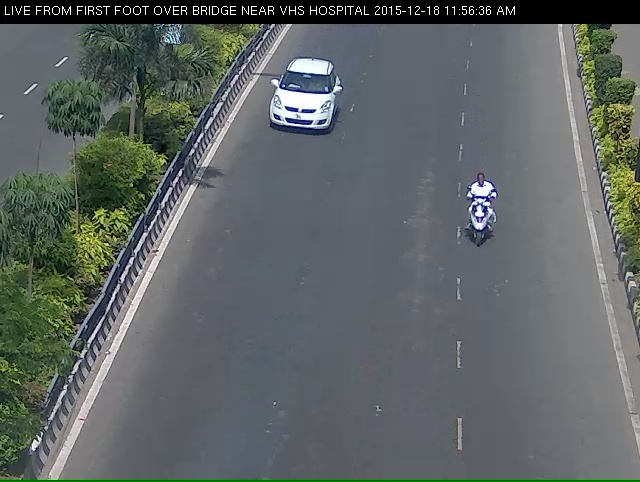Car: (250, 54, 344, 156)
Person: (461, 176, 503, 257)
